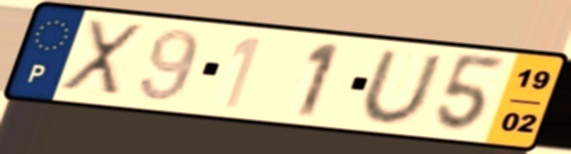1: (297, 41, 345, 120), (223, 35, 265, 110)
5: (429, 50, 511, 137)
9: (135, 26, 202, 104)
U: (358, 48, 447, 127)
X: (55, 16, 148, 101)
